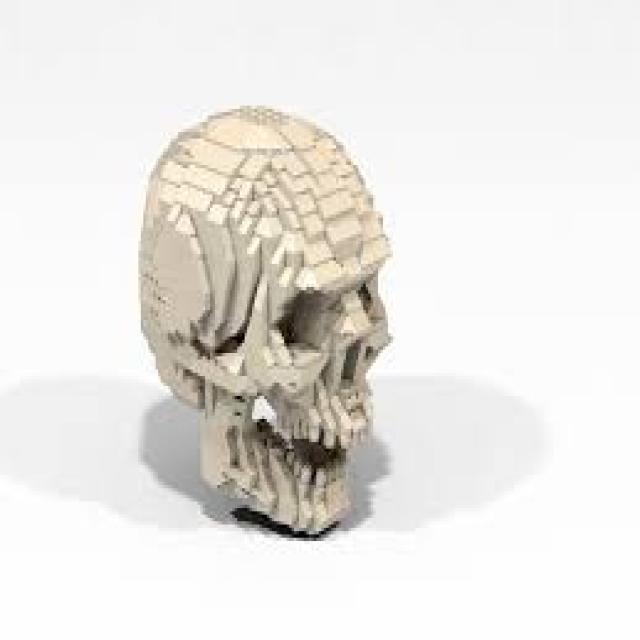skull: (133, 80, 394, 564)
